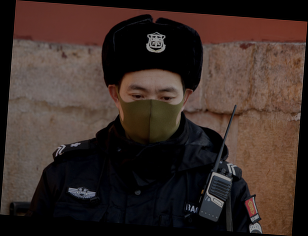with_mask: (119, 83, 184, 144)
